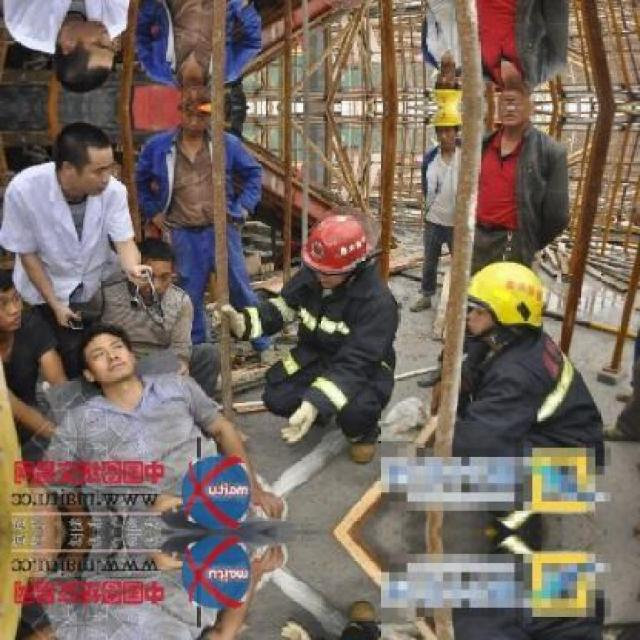Reflective-Jacket: (256, 283, 404, 428)
Safety-Helmet: (448, 254, 562, 338), (296, 208, 386, 280), (340, 592, 385, 630), (429, 106, 465, 129)
